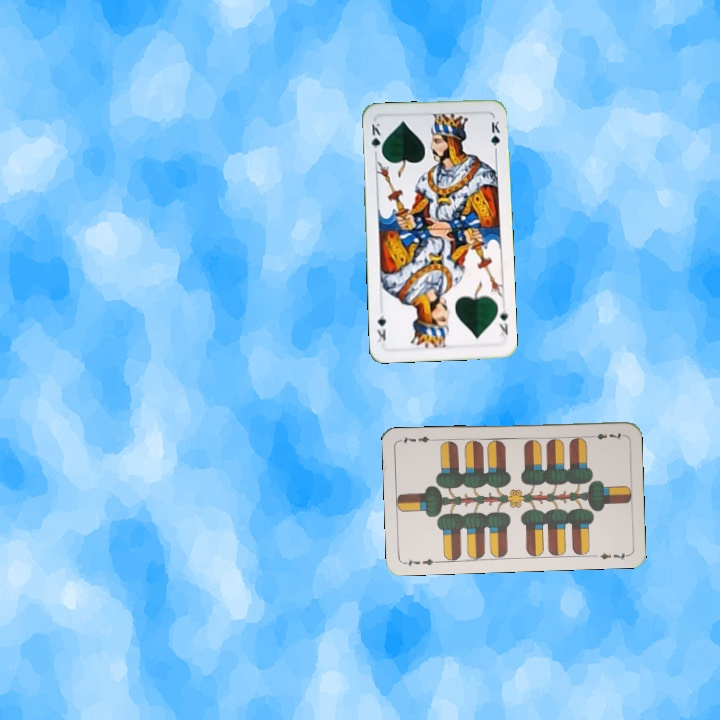E7: (585, 428, 625, 442), (401, 555, 441, 569)
GK: (367, 119, 384, 158), (495, 305, 511, 340)
